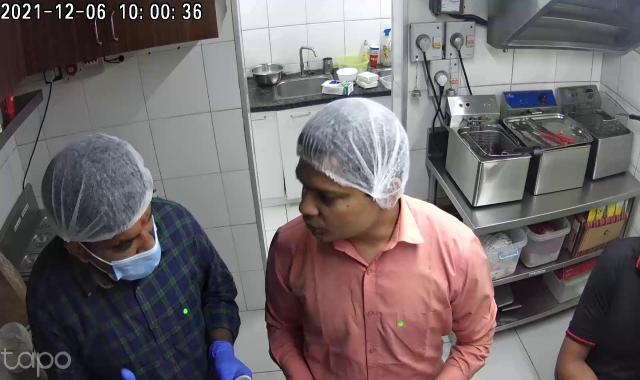hairnet: (26, 138, 159, 244), (296, 97, 416, 203)
